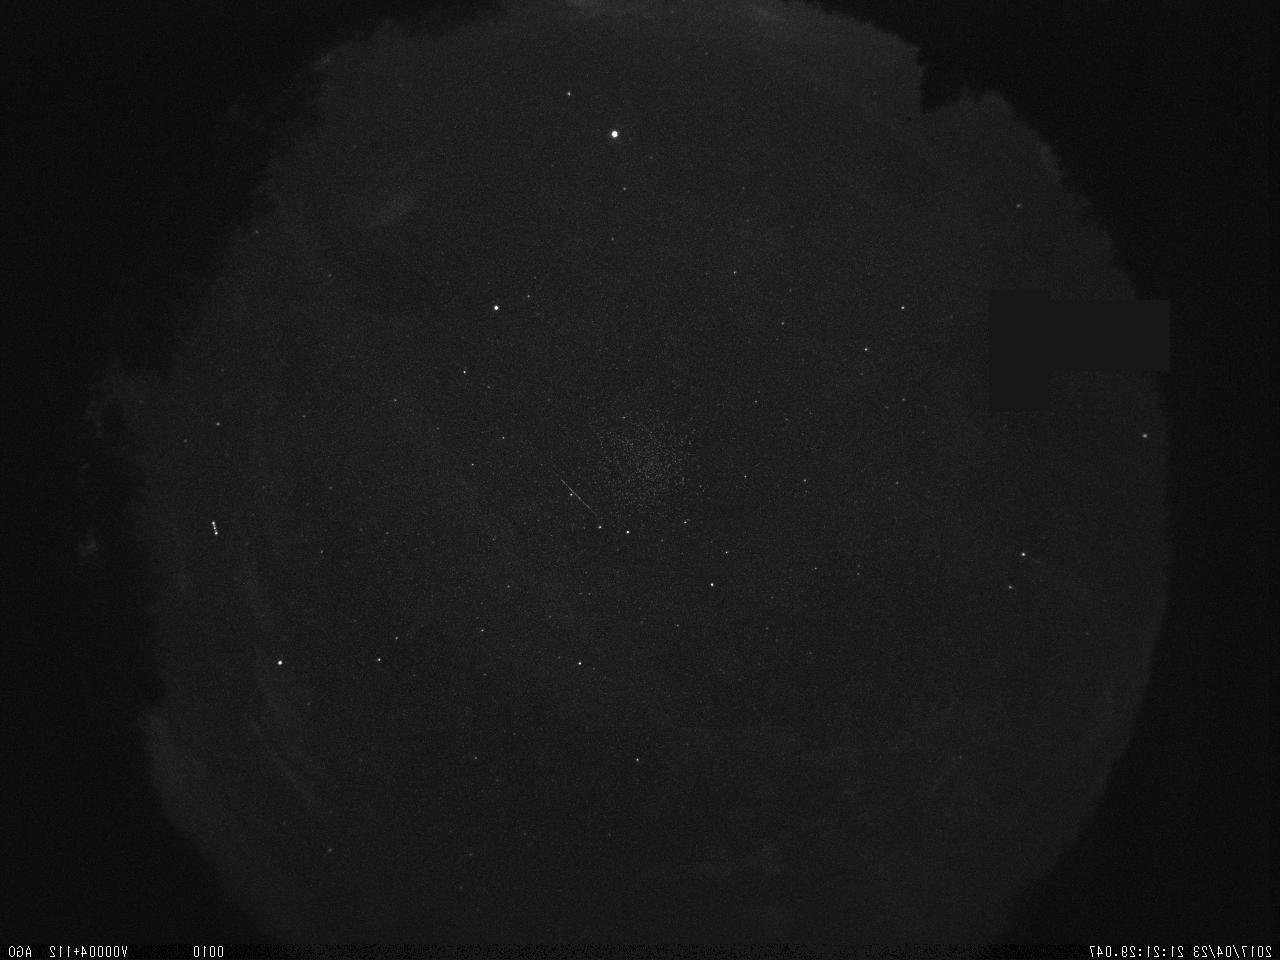meteor: (557, 471, 596, 516)
